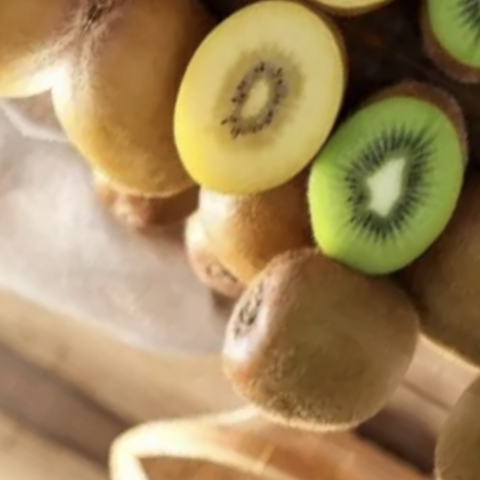kiwi: (7, 0, 306, 257), (179, 217, 452, 479)
